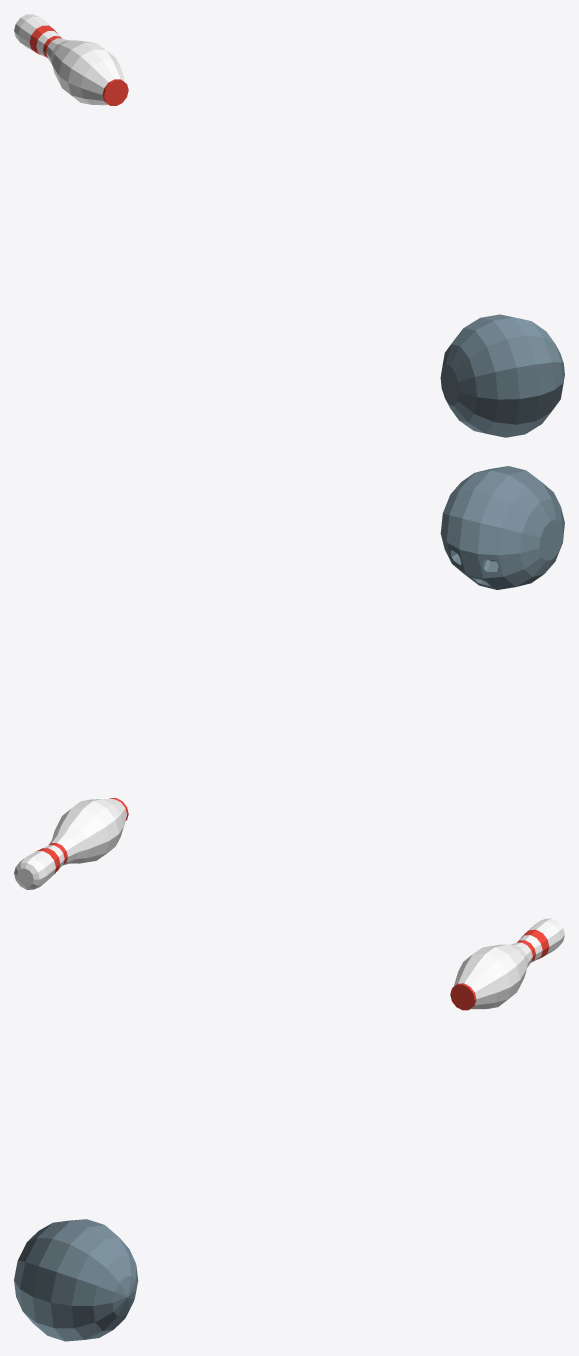
The model's file is bowling.dae.
3 renders of one model, top to bottom at view 1: azimuth 30°, elevation 25°; view 2: azimuth 150°, elevation 25°; view 3: azimuth 330°, elevation 25°, orthographic.
Parts seen in each view (by area): view 1: ball, pin; view 2: ball, pin; view 3: ball, pin.
Part boxes in pixels (x1,y1,x2,y2): ball: (440, 314, 564, 437); pin: (14, 14, 128, 105); ball: (440, 466, 564, 589); pin: (14, 798, 128, 889); ball: (14, 1219, 138, 1341); pin: (450, 918, 564, 1010).
Bounding box in the file's own units: 0.1969 × 1.61 × 0.1954.
